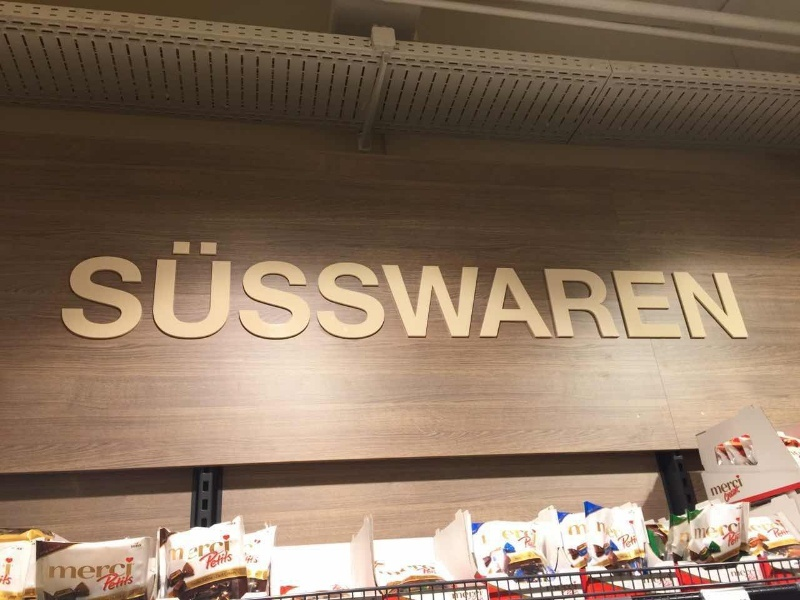text: (81, 239, 96, 341), (97, 239, 112, 341), (113, 239, 128, 341), (129, 239, 144, 341), (145, 239, 160, 341), (161, 239, 176, 341), (177, 239, 192, 341), (193, 239, 208, 341), (209, 239, 224, 341), (225, 239, 240, 341), (241, 239, 256, 341), (257, 239, 272, 341), (273, 239, 288, 341), (289, 239, 304, 341), (305, 239, 320, 341), (321, 239, 336, 341), (337, 239, 352, 341), (353, 239, 368, 341), (369, 239, 384, 341), (385, 239, 400, 341), (401, 239, 416, 341), (417, 239, 432, 341), (433, 239, 448, 341), (449, 239, 464, 341), (465, 239, 480, 341), (481, 239, 496, 341), (497, 239, 512, 341), (513, 239, 528, 341), (529, 239, 544, 341), (545, 239, 560, 341), (561, 239, 576, 341), (577, 239, 592, 341), (593, 239, 608, 341), (609, 239, 624, 341), (625, 239, 640, 341), (641, 239, 656, 341), (657, 239, 672, 341), (673, 239, 688, 341), (689, 239, 704, 341), (705, 239, 720, 341), (721, 239, 736, 341), (737, 239, 751, 341), (1, 558, 16, 587), (177, 534, 192, 563), (193, 534, 208, 563), (209, 534, 224, 563), (209, 546, 224, 572), (49, 556, 64, 581), (65, 556, 80, 581), (81, 556, 96, 581), (97, 556, 112, 581), (113, 556, 128, 581), (705, 517, 720, 541), (721, 517, 736, 541), (721, 474, 736, 497), (197, 546, 208, 572), (97, 573, 112, 592), (113, 573, 128, 592), (625, 531, 639, 551), (722, 529, 736, 549), (167, 534, 176, 563), (225, 546, 234, 572), (710, 474, 720, 497), (516, 530, 528, 549), (724, 484, 736, 503), (695, 517, 704, 541), (769, 525, 784, 538), (596, 522, 608, 538), (385, 564, 400, 576), (401, 564, 416, 576), (417, 564, 432, 576), (244, 552, 256, 565), (529, 530, 537, 549), (129, 556, 135, 581), (225, 534, 230, 563), (617, 531, 624, 551), (737, 474, 743, 497), (465, 591, 480, 600), (679, 532, 688, 547), (609, 522, 617, 538), (577, 524, 587, 536), (737, 569, 752, 577), (452, 591, 464, 600), (567, 524, 576, 536), (79, 239, 80, 341), (737, 517, 741, 541), (129, 573, 134, 592), (737, 529, 741, 549), (785, 525, 791, 538), (737, 484, 741, 503), (379, 564, 384, 576), (433, 564, 437, 576), (731, 569, 736, 577), (689, 532, 691, 547), (257, 552, 259, 565), (753, 569, 756, 577), (767, 525, 768, 538), (481, 591, 482, 600)
